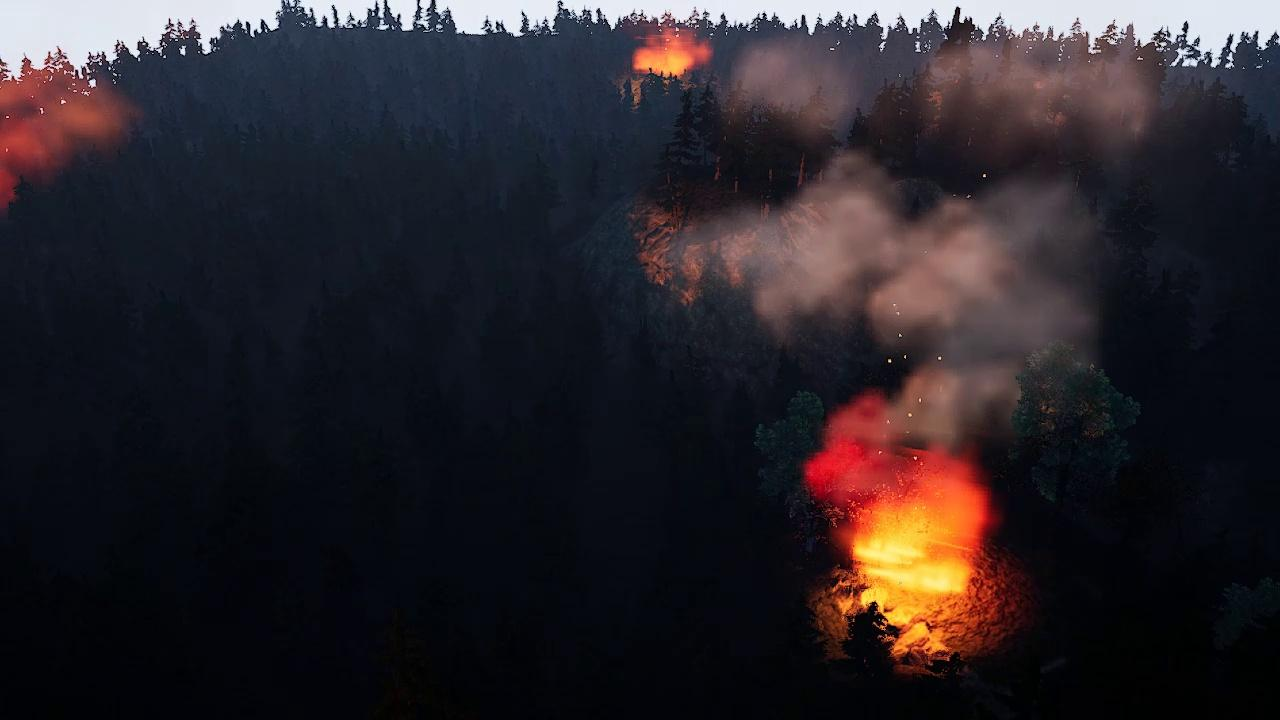fire: (818, 467, 985, 599)
smoke: (697, 21, 1157, 496), (0, 74, 128, 227), (640, 24, 712, 70)
